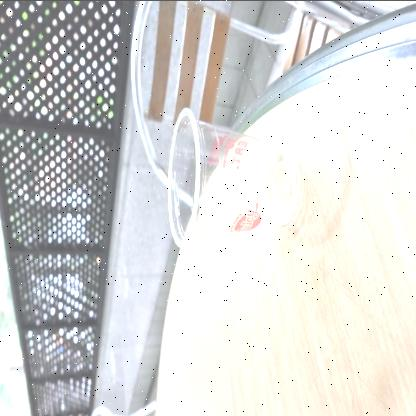Others: (164, 106, 306, 250)
